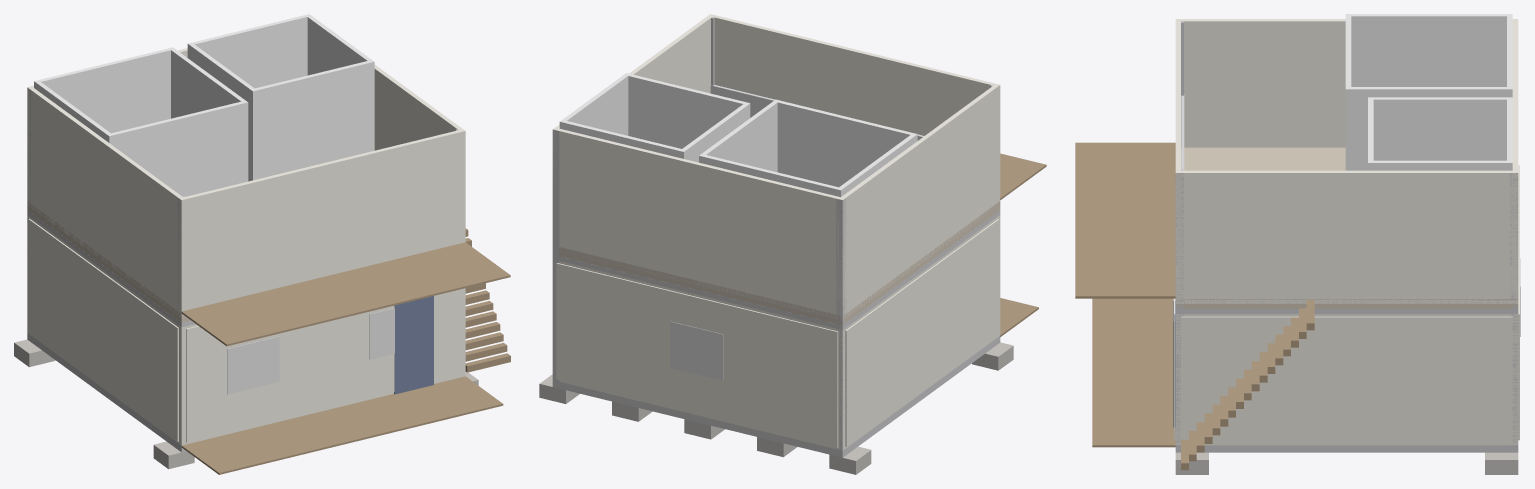
The model's file is Duplex-20-Base-IvoryWhite-LOD2.glb.
The picture shows the model from 3 angles, left to right: view 1: azimuth 30°, elevation 25°; view 2: azimuth 150°, elevation 25°; view 3: azimuth 270°, elevation 25°; orthographic projection. The views are drawn at different scales.
Parts seen in each view (by area): view 1: ExteriorShellUpper, ExteriorPanelsStandard, StudyUpper, BedroomUpper, BalconyUpper, BalconyGround, WindowsStandard, EntryDoor, StaircaseExternal, ExteriorShell, FoundationBlocks, FloorUpper (+2 smaller); view 2: ExteriorShellUpper, ExteriorPanelsStandard, BedroomUpper, StudyUpper, FloorUpper, VerticalStructure, FoundationBlocks, BaseFrame, ExteriorShell, WindowsStandard, TopFrame, BalconyUpper (+2 smaller); view 3: ExteriorShellUpper, ExteriorPanelsStandard, BalconyUpper, BedroomUpper, BalconyGround, StudyUpper, FloorUpper, StaircaseExternal, ExteriorShell, VerticalStructure, BaseFrame, TopFrame (+1 smaller).
Part boxes in pixels (x1,y1,x2,y2): ExteriorShellUpper: (27,48,465,317); ExteriorPanelsStandard: (28,218,461,442); StudyUpper: (187,14,374,181); BedroomUpper: (34,47,248,196); BalconyUpper: (181,242,510,346); BalconyGround: (181,376,503,474); WindowsStandard: (227,308,394,394); EntryDoor: (394,296,433,394); StaircaseExternal: (465,228,510,372); ExteriorShell: (27,215,465,445); FoundationBlocks: (14,339,478,469); FloorUpper: (27,201,190,322); ExteriorShellUpper: (552,14,1000,319); ExteriorPanelsStandard: (556,219,999,447); BedroomUpper: (699,99,917,197); StudyUpper: (559,73,750,162); FloorUpper: (559,201,1000,325); VerticalStructure: (552,17,998,450); FoundationBlocks: (539,342,1013,474); BaseFrame: (552,336,1000,457); ExteriorShell: (559,215,1000,450); WindowsStandard: (670,321,723,380); TopFrame: (559,210,1000,329); BalconyUpper: (1000,153,1046,199); ExteriorShellUpper: (1175,19,1518,303); ExteriorPanelsStandard: (1174,165,1519,443); BalconyUpper: (1075,142,1175,298); BedroomUpper: (1345,14,1512,170); BalconyGround: (1092,298,1175,447); StudyUpper: (1368,97,1512,170); FloorUpper: (1175,147,1518,308); StaircaseExternal: (1181,299,1314,470); ExteriorShell: (1175,314,1518,445); VerticalStructure: (1175,21,1518,445); BaseFrame: (1175,445,1518,452); TopFrame: (1175,309,1518,313).
Bounding box in the file's own units: 7.94 × 6 × 8.
